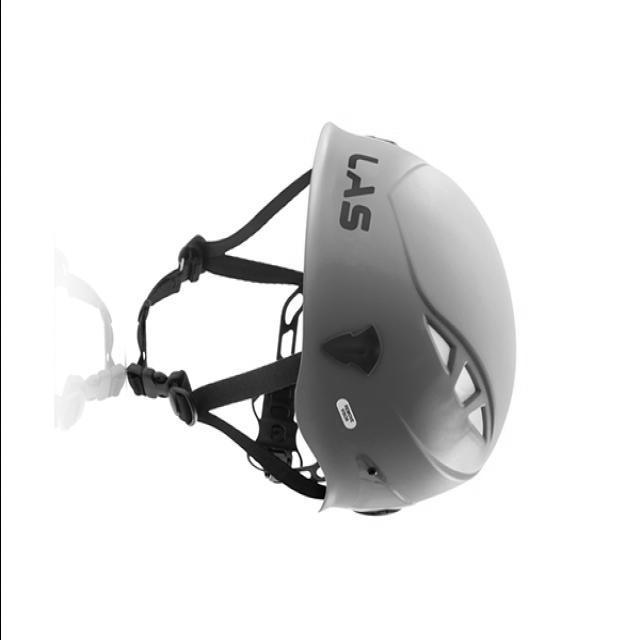safety_helmet: (127, 119, 515, 517)
